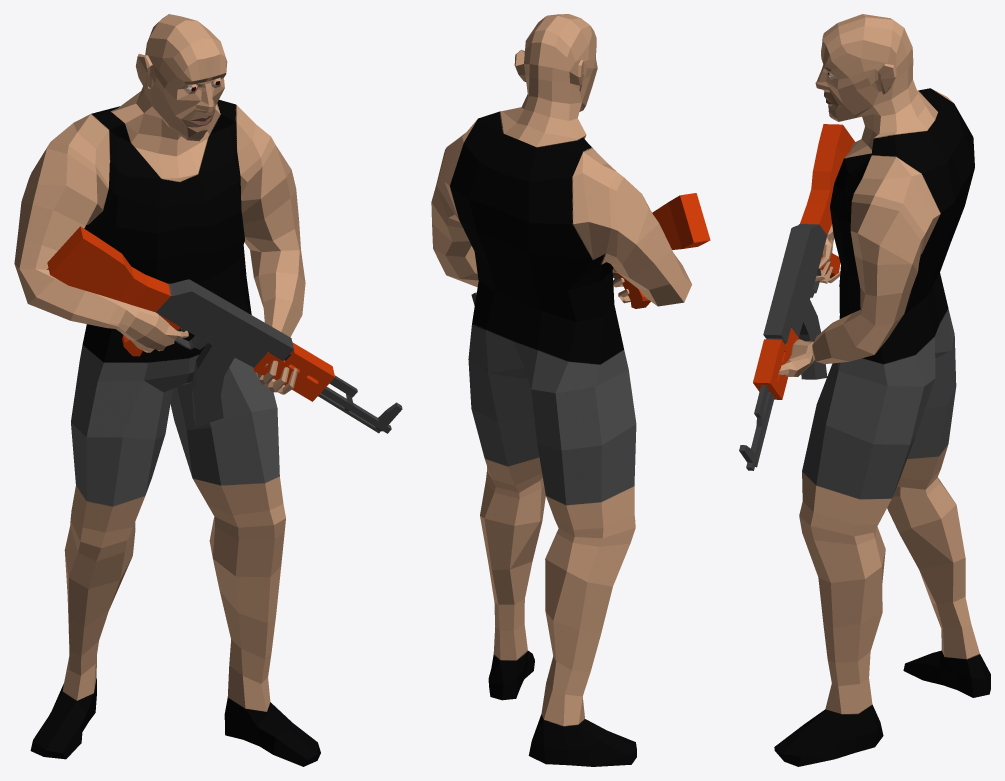
Rendered from PlayerIdle(188).obj.
3 views of the same model, side by side, from view 1: azimuth 30°, elevation 25°; view 2: azimuth 150°, elevation 25°; view 3: azimuth 270°, elevation 25° (orthographic). The views are drawn at different scales.
Visible parts, largest first — view 1: Plane002, Object001; view 2: Plane002, Object001; view 3: Plane002, Object001.
Boxes of the visible parts, left/top/right/bottom form: Plane002: left=14, top=14, right=320, bottom=766; Object001: left=47, top=226, right=402, bottom=433; Plane002: left=431, top=14, right=691, bottom=766; Object001: left=471, top=193, right=710, bottom=308; Plane002: left=774, top=14, right=990, bottom=766; Object001: left=739, top=124, right=854, bottom=470.
Size of the model in its own units: 780 by 1801 by 585.
